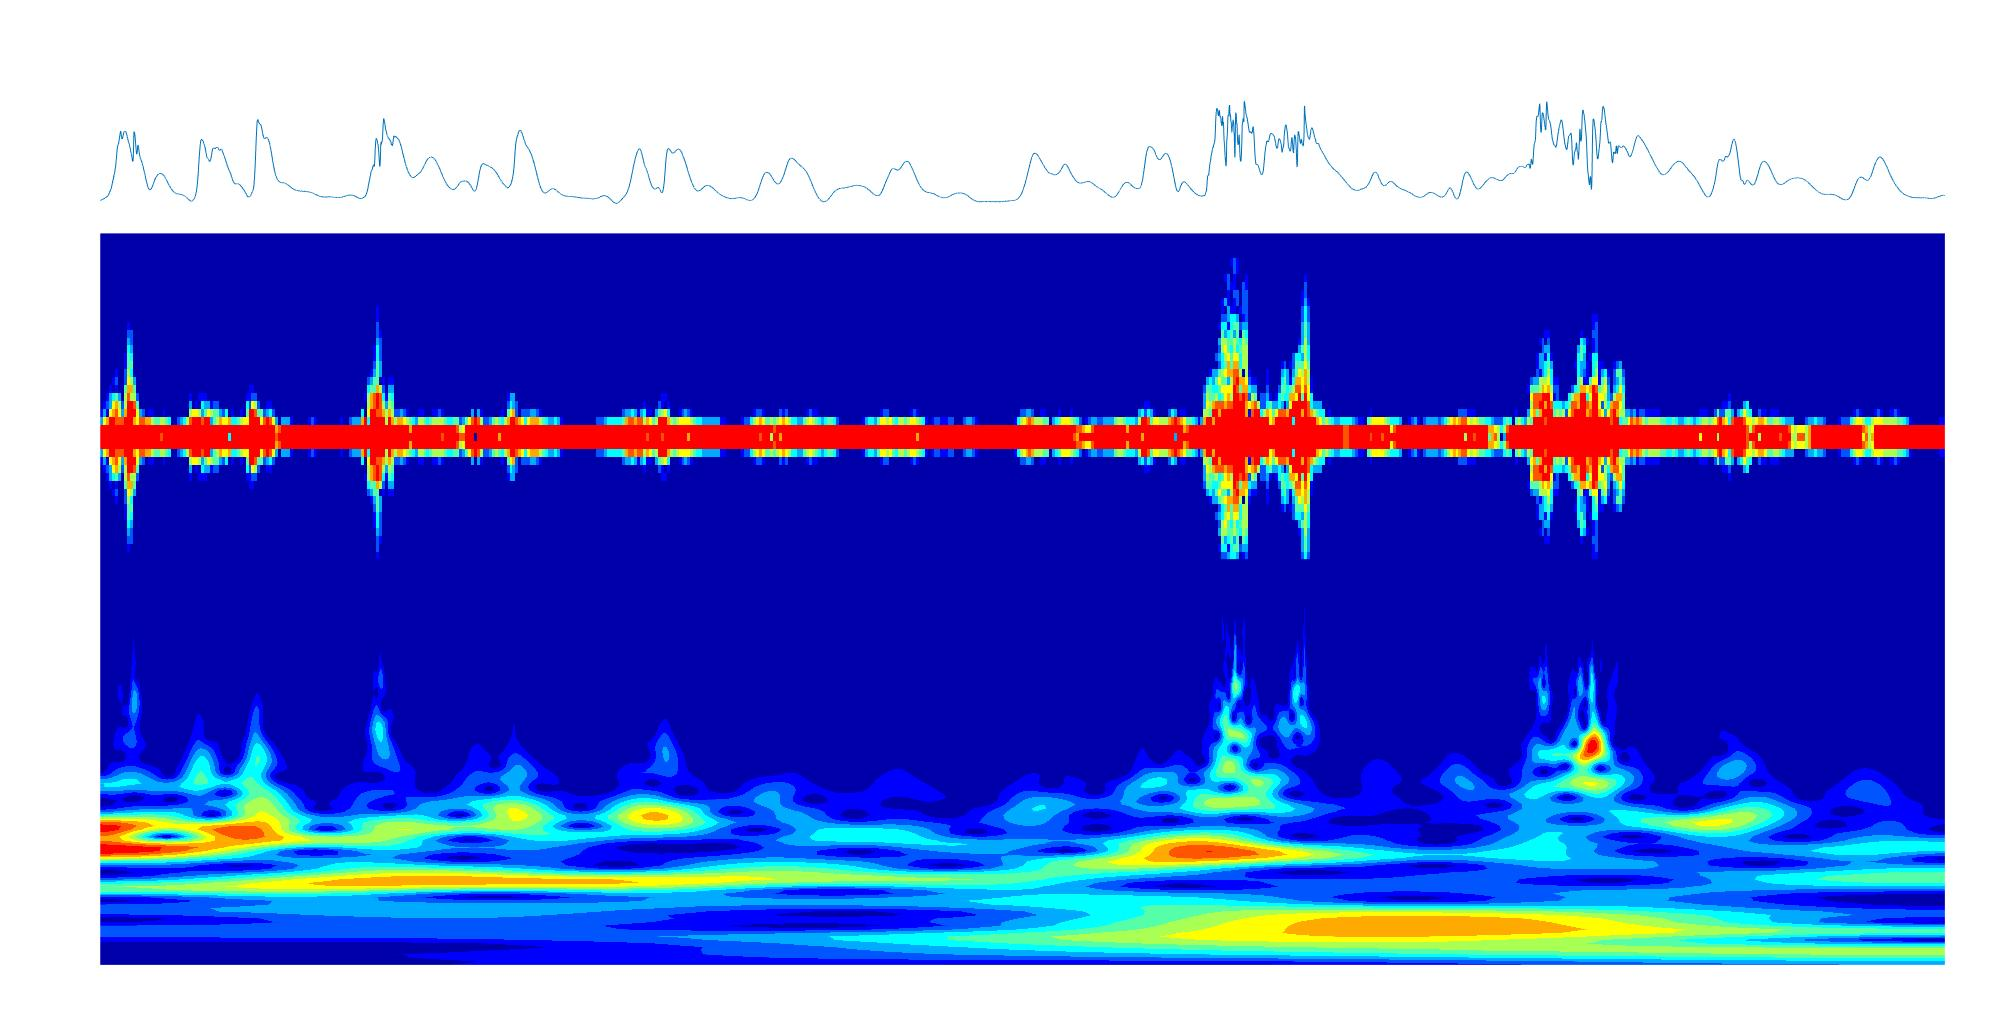TURBULENT: (1572, 232, 1626, 962), (1206, 233, 1256, 963), (1524, 232, 1557, 962), (1282, 233, 1313, 964)
